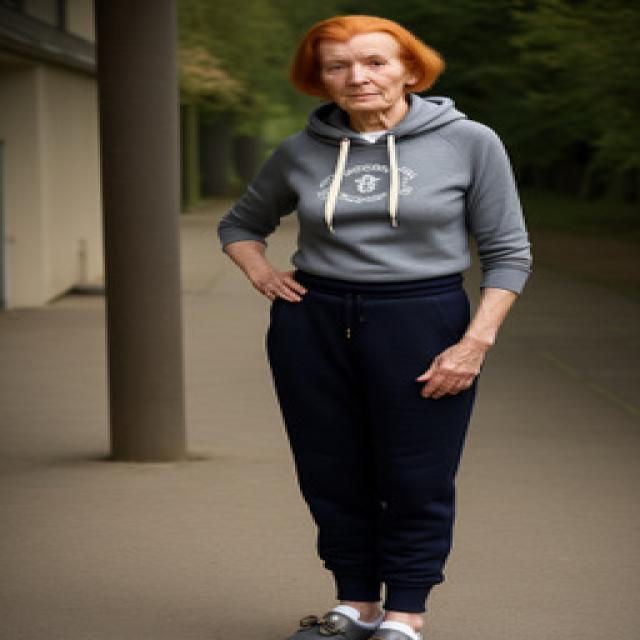Ai human 2: (218, 5, 548, 640)
